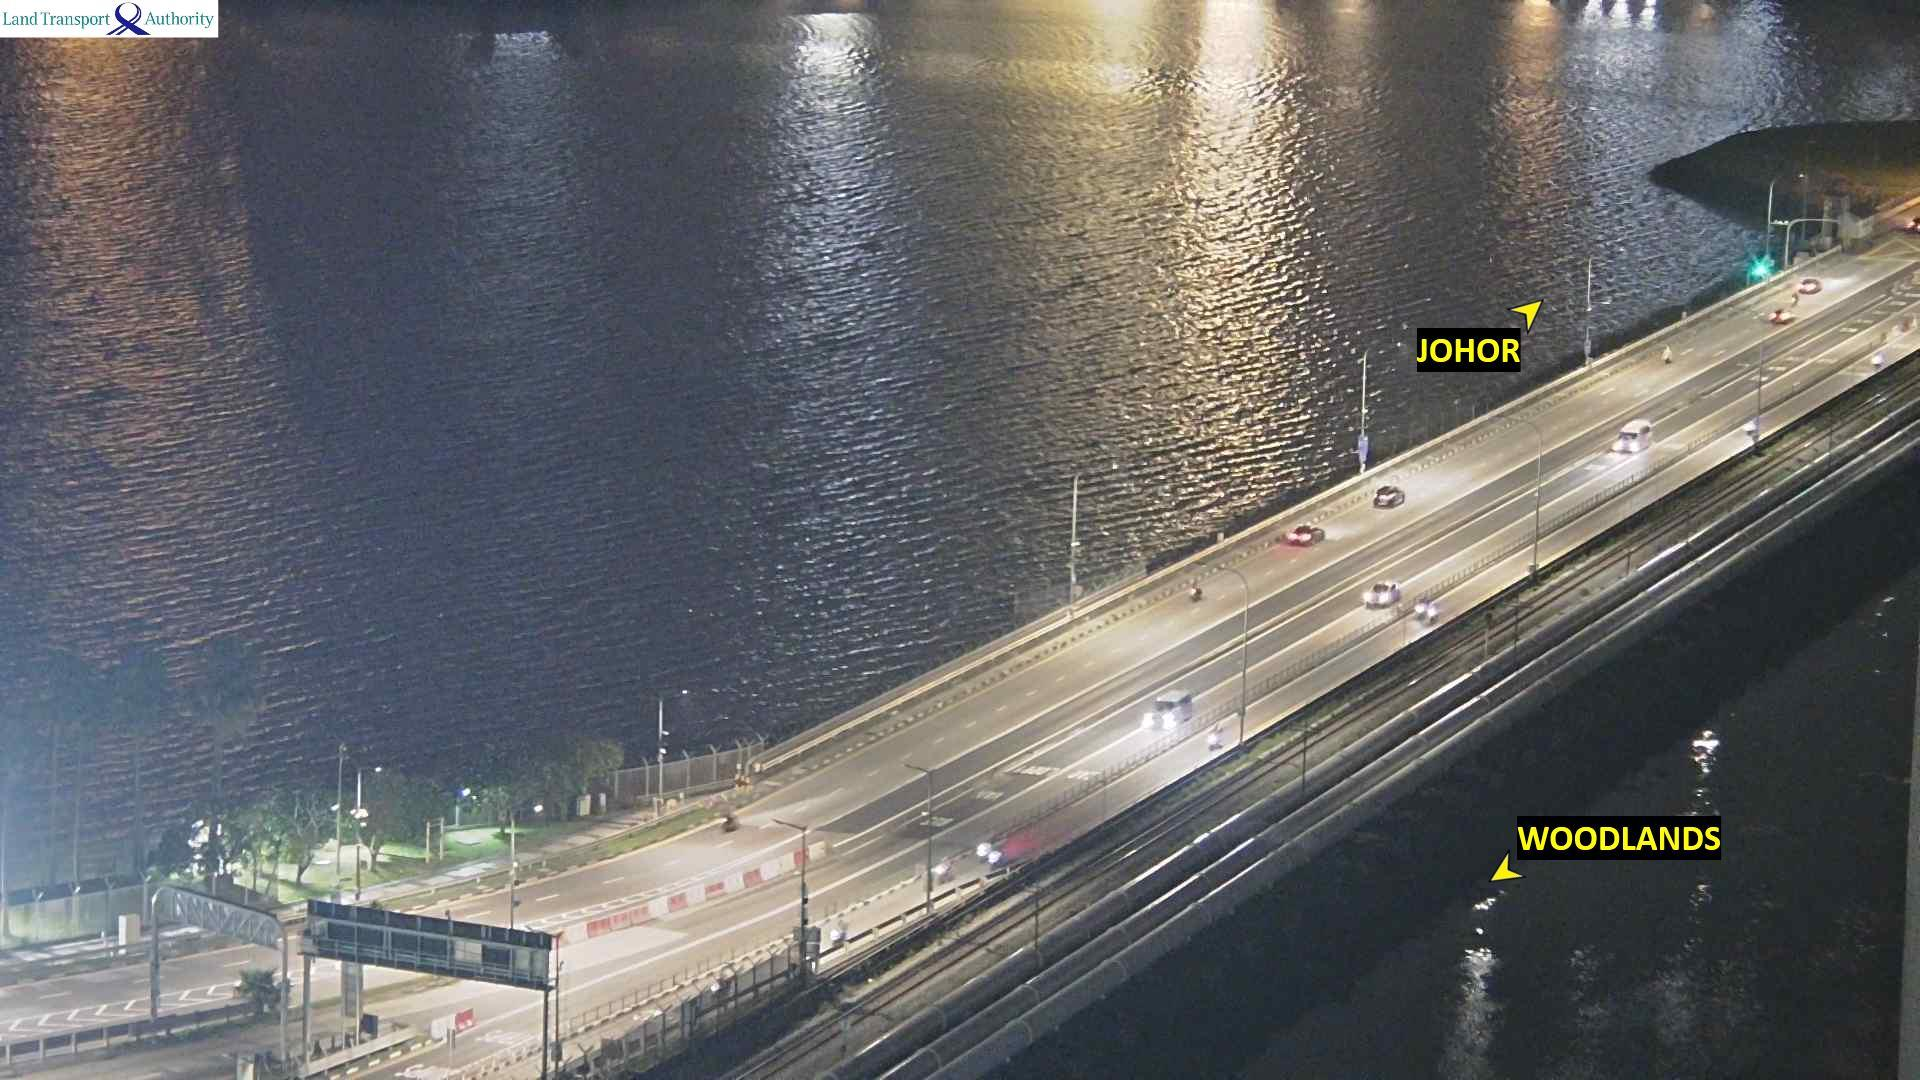vehicle-causeway-johor: (1366, 481, 1406, 505), (1291, 522, 1324, 541), (1660, 347, 1679, 365), (723, 810, 738, 831), (1188, 582, 1203, 601), (1771, 310, 1788, 324), (1908, 215, 1920, 229), (1791, 291, 1796, 303)
vehicle-causeway-singapore: (1147, 690, 1192, 724), (1611, 419, 1651, 451), (1364, 580, 1403, 609), (1211, 724, 1224, 748), (1429, 600, 1440, 625), (1415, 597, 1427, 617), (1743, 421, 1755, 435), (1874, 353, 1880, 371)
